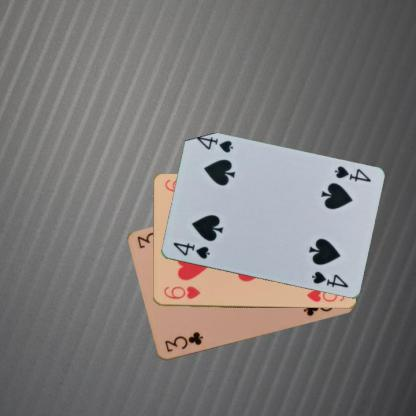3c: (162, 329, 204, 354)
4s: (170, 240, 211, 260), (331, 164, 372, 184)
6h: (161, 284, 201, 300)
